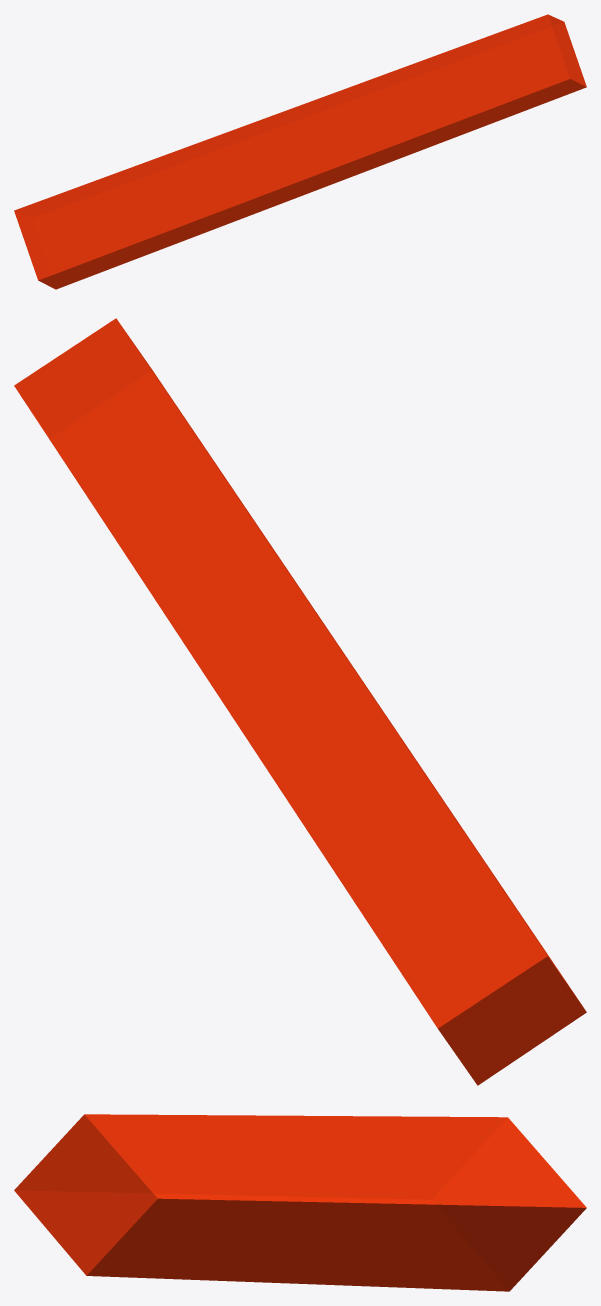
Rendered from Event_421364160_EBrechit_20.fbx.
The picture shows the model from 3 angles, top to bottom: view 1: azimuth 30°, elevation 25°; view 2: azimuth 150°, elevation 25°; view 3: azimuth 270°, elevation 25°; orthographic projection. The views are drawn at different scales.
Visible parts, largest first — view 1: Model; view 2: Model; view 3: Model.
Part boxes in pixels (<box>): Model: <box>14,14,586,289</box>; Model: <box>14,318,586,1085</box>; Model: <box>14,1114,586,1291</box>.
Bounding box in the file's own units: 0.4045 × 0.2522 × 0.2895.
